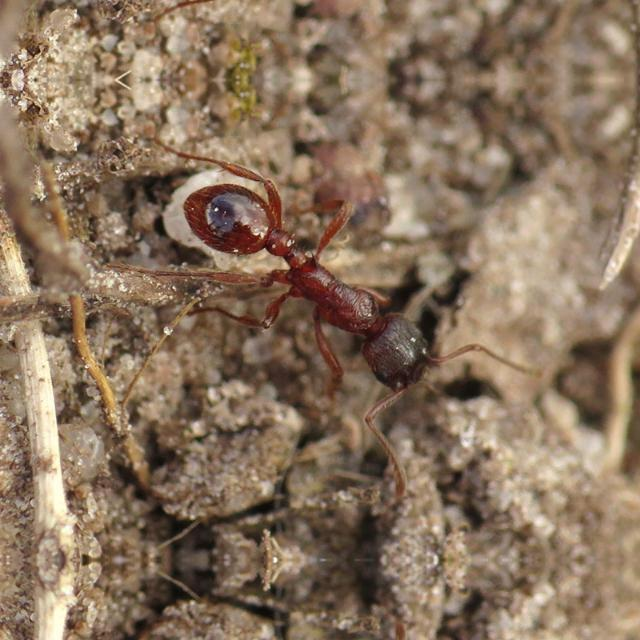Myrmica: (180, 153, 478, 433)
